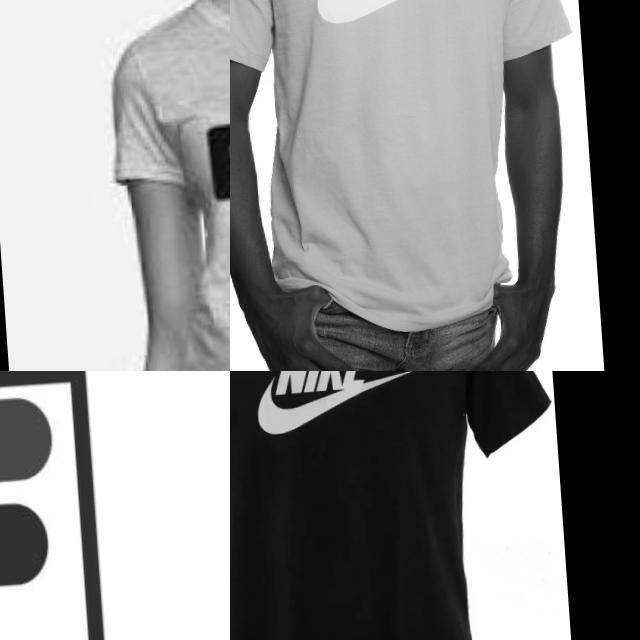FILA_original: (0, 371, 147, 640), (0, 371, 112, 640)
NIKE_original: (230, 371, 431, 454), (282, 0, 498, 53)
